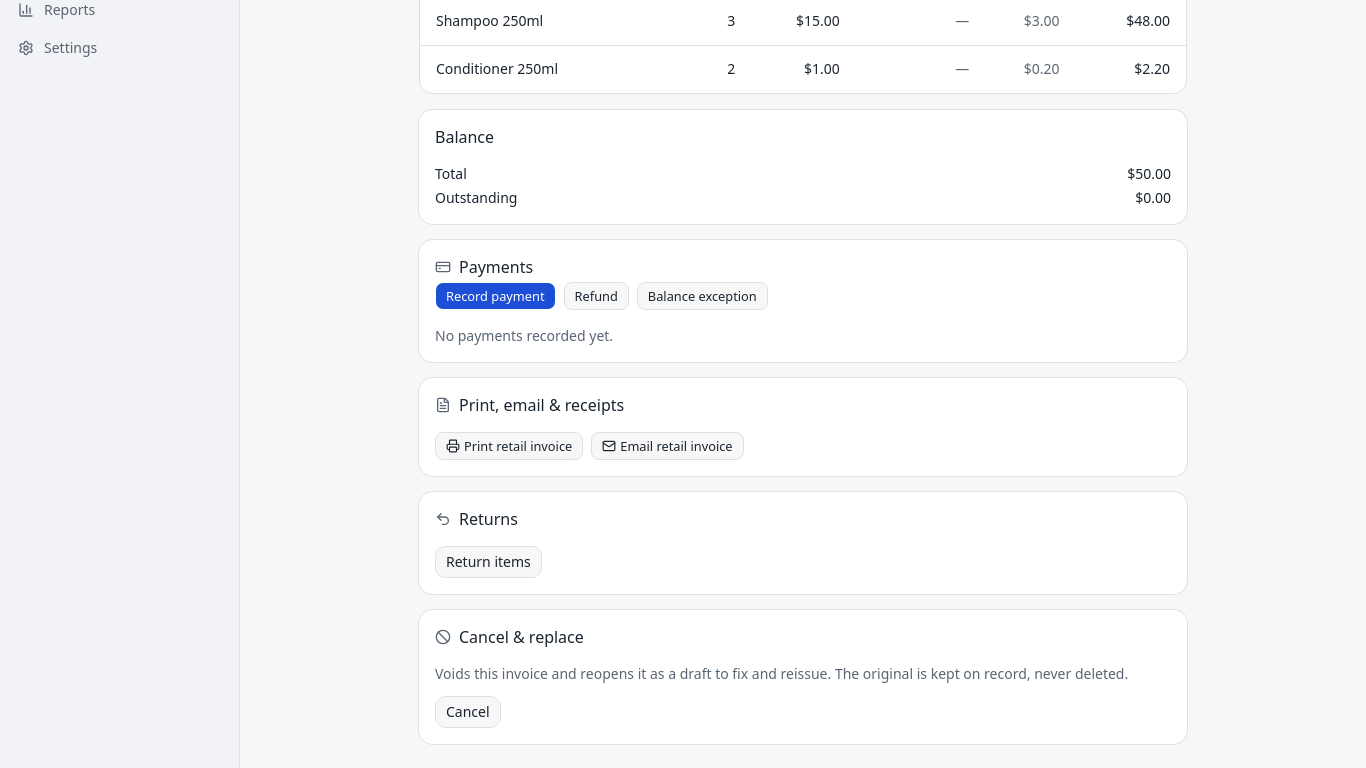
Scenario: typing past what remains is clamped to the remaining quantity
The width and height of the screenshot is (1366, 768).
(page scrolled)
Click the button "Return items" at (488, 562), box [435,546,542,578]
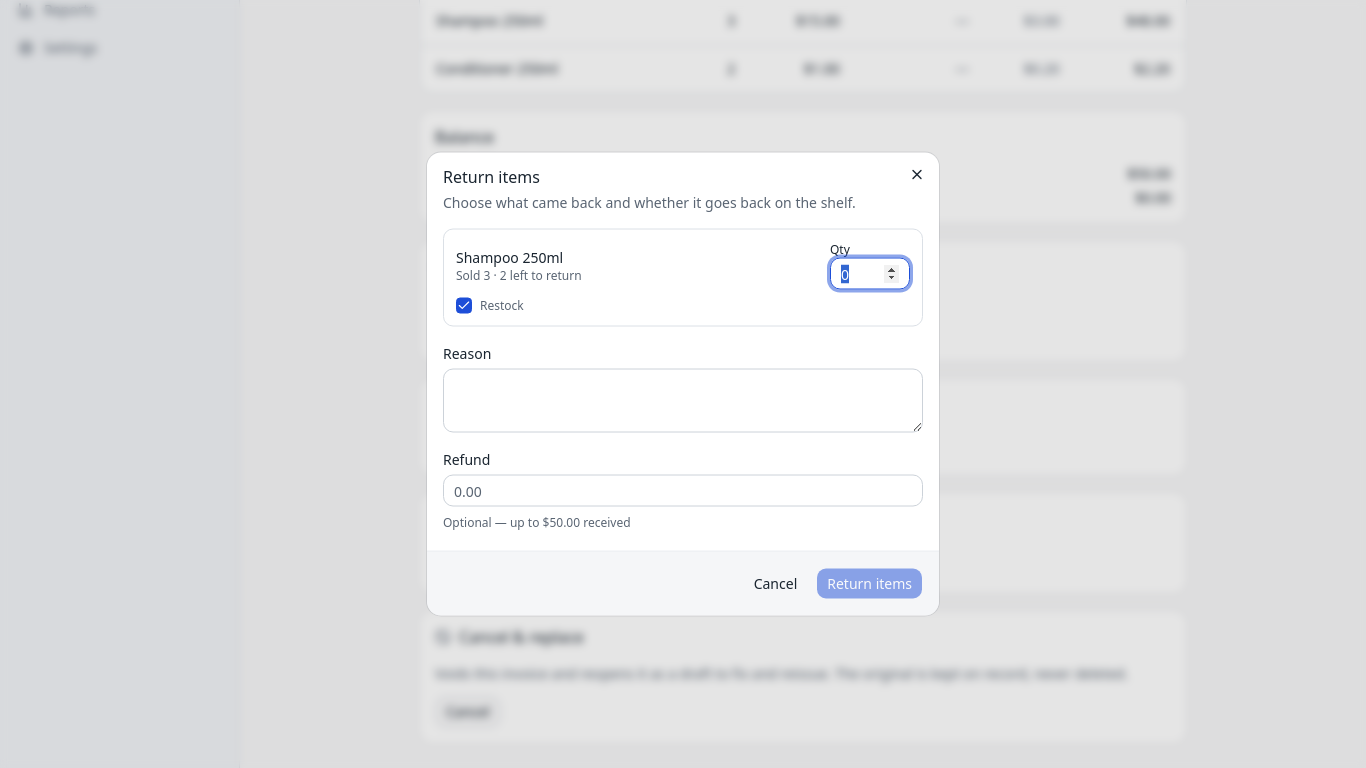
Replace the text in the number field labelled "Qty" with "99" at (870, 274), box [830,258,910,290]
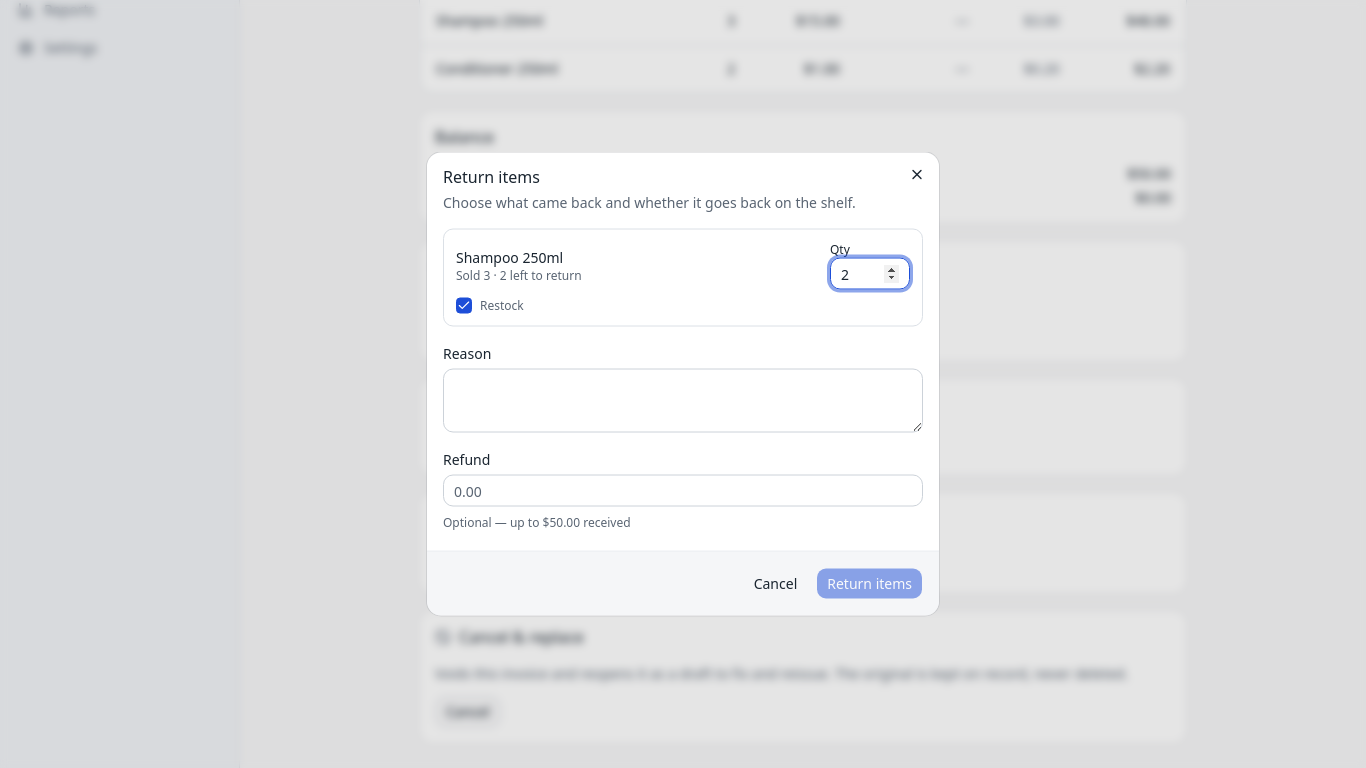
Check: the number field labelled "Qty" holds "2", box [830,258,910,290]
